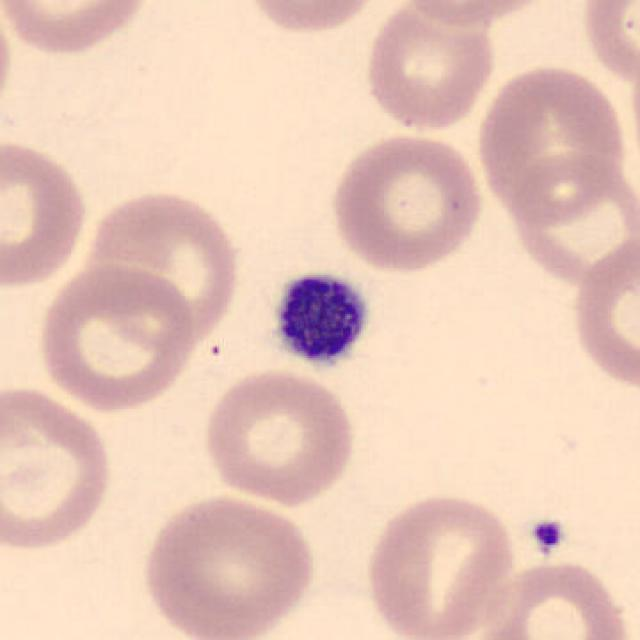Platelets: (261, 264, 375, 372), (526, 513, 569, 559)
RBC: (135, 490, 320, 640), (80, 185, 245, 347), (471, 60, 631, 222), (32, 259, 199, 414), (362, 486, 519, 640), (325, 129, 487, 275), (199, 365, 359, 509), (0, 380, 117, 555), (502, 148, 636, 291), (361, 0, 499, 134), (0, 134, 92, 291), (471, 555, 637, 640), (567, 229, 638, 397), (0, 0, 158, 58), (576, 0, 640, 93), (238, 0, 388, 37), (398, 0, 556, 30), (0, 0, 16, 134)
